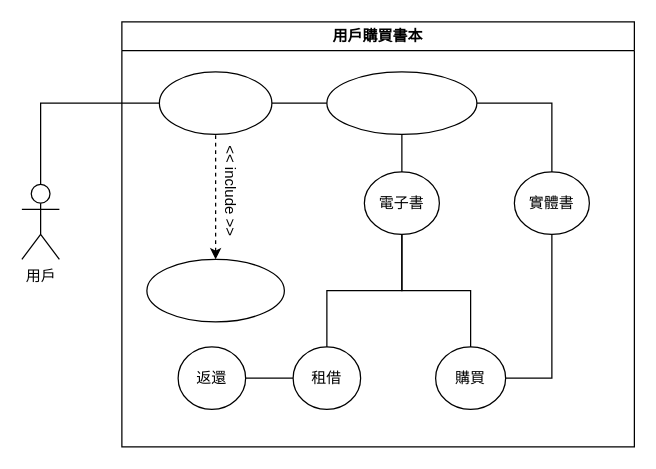
Image size: 656x469. Some labels were removed from this diagram. The shapes that lost their labels are listed below. From the top down, each one's box as (x1, y1, x2, y2) in pixels, then its label:
(158, 71, 272, 134): 預覽書本
(326, 71, 477, 134): 將書本加入購物車
(146, 258, 284, 322): 對話式搜索書本
